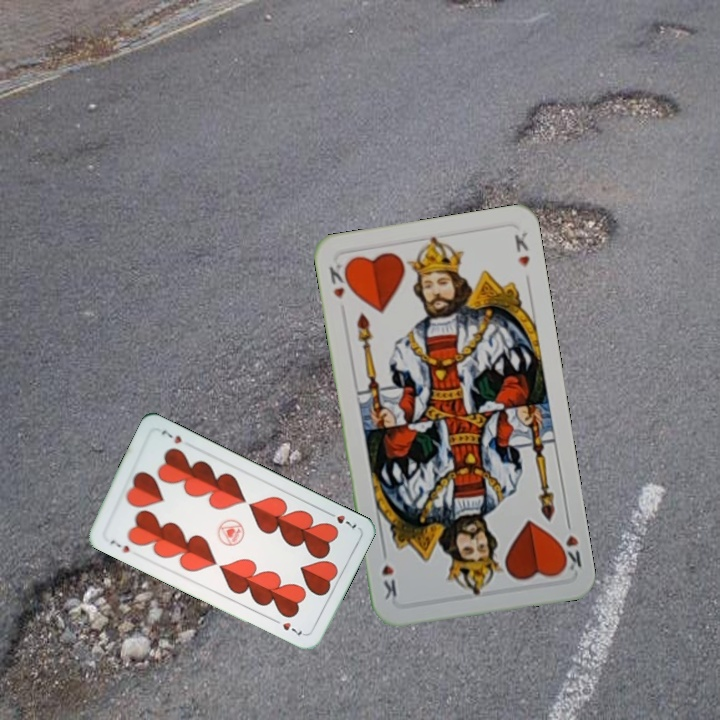H7: (322, 507, 359, 532), (106, 536, 132, 555)
HK: (554, 514, 585, 573), (325, 257, 354, 302)
